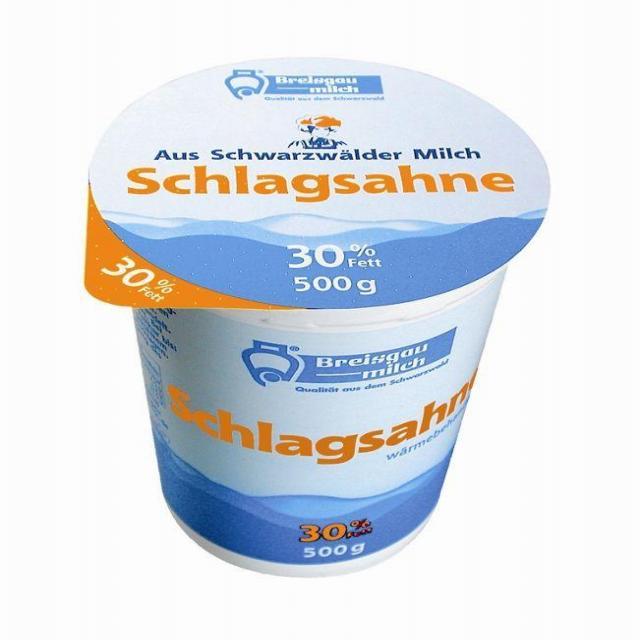Cream: (86, 58, 549, 574)
